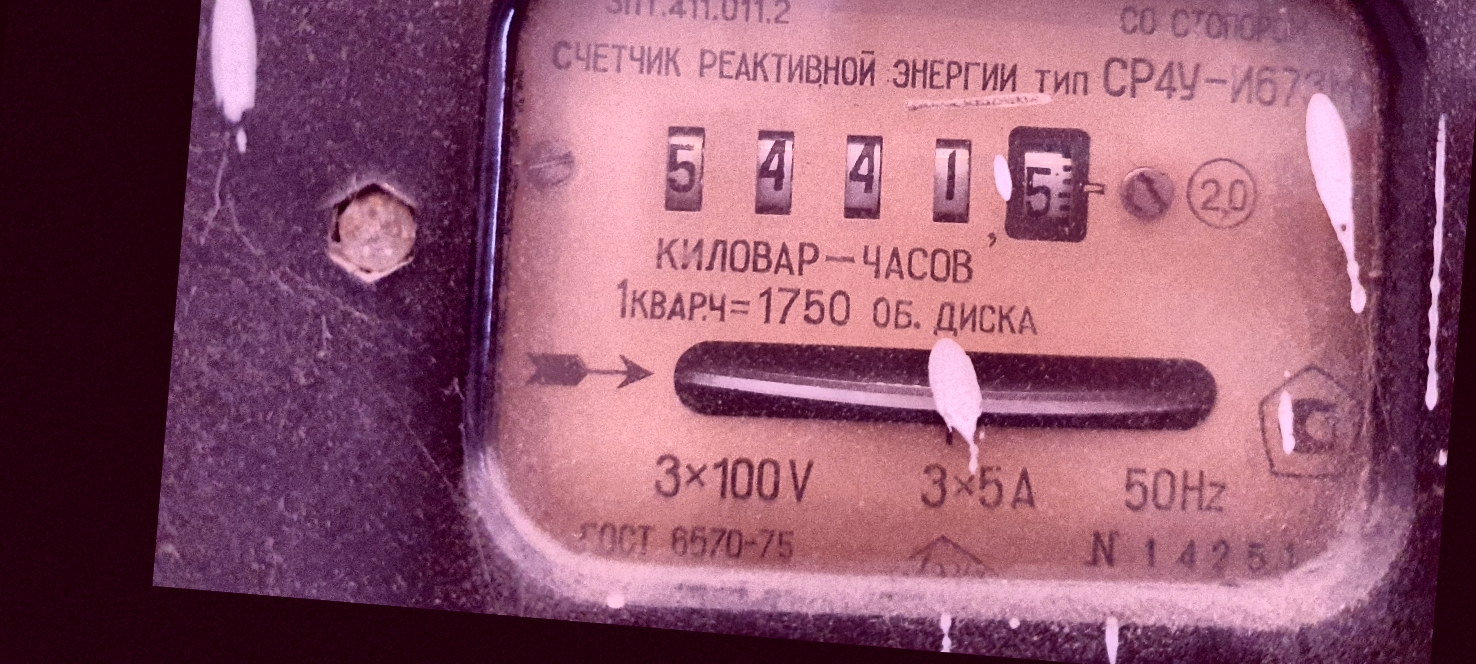1: (935, 145, 964, 205)
4: (840, 134, 883, 202), (752, 132, 793, 196)
5: (1018, 159, 1058, 224), (660, 138, 703, 198)
screen: (634, 71, 1119, 275)
